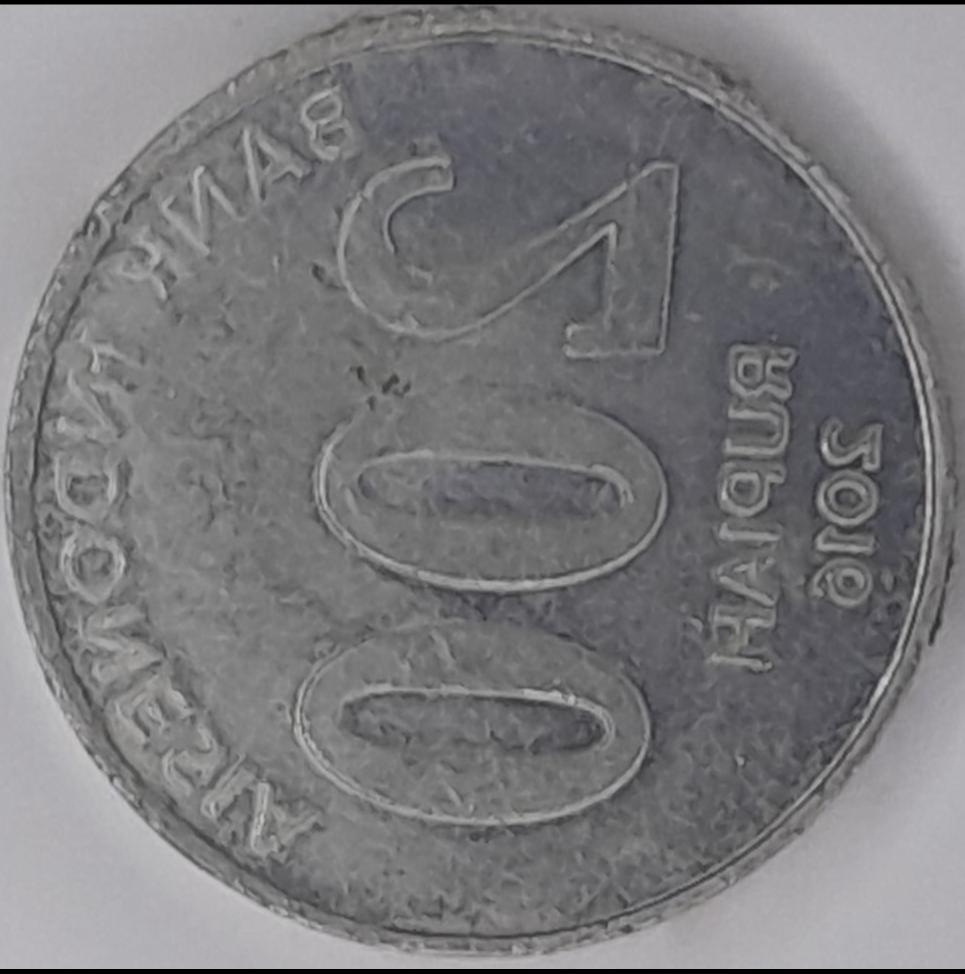coin_200_e2016: (0, 17, 965, 974)
